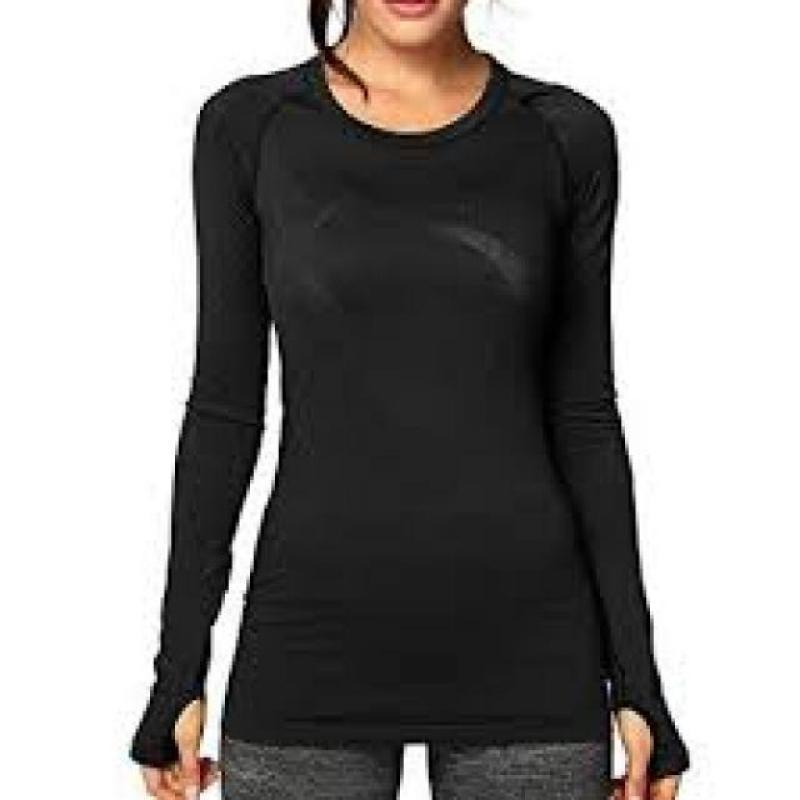long sleeve shirt: (125, 50, 683, 760)
trousers: (222, 731, 612, 800)
